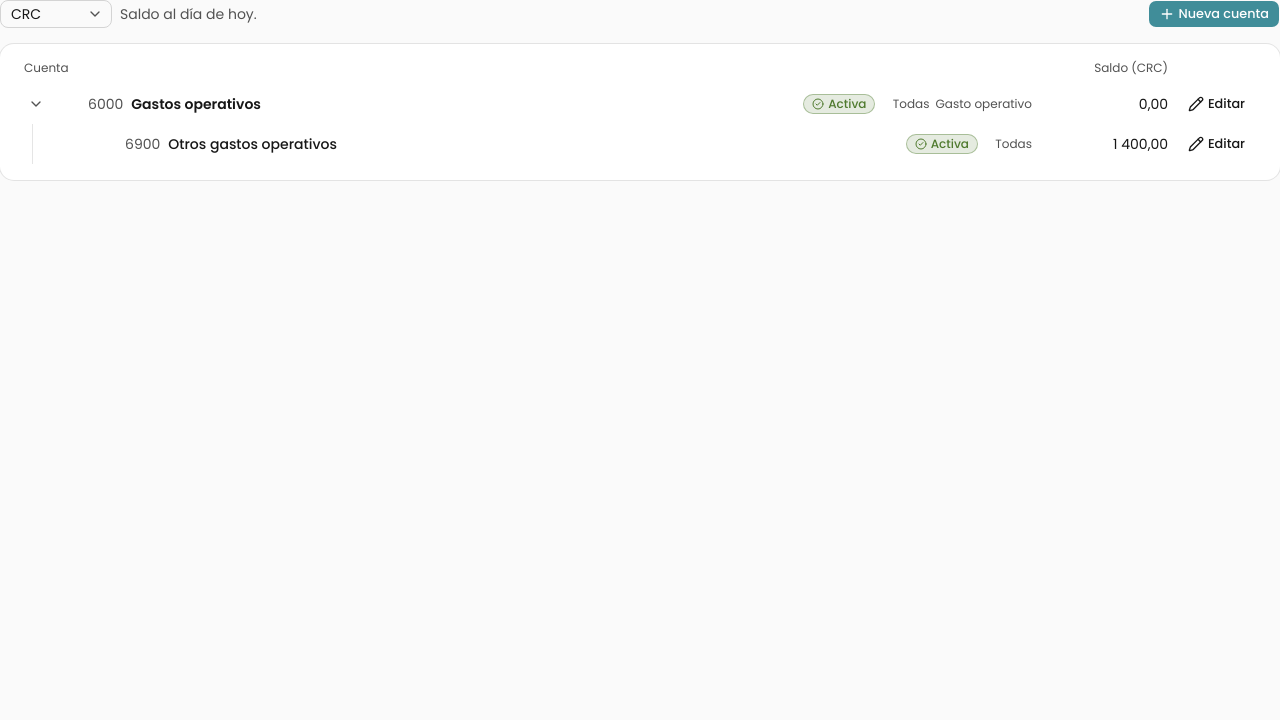
Scenario: FinanceAccountsTree — alta de una cuenta hija › rechaza un código que no son 4 dígitos antes de mandarlo
The image size is (1280, 720).
Click the button "Nueva cuenta". click: (1214, 14)
box: [1148, 0, 1279, 28]
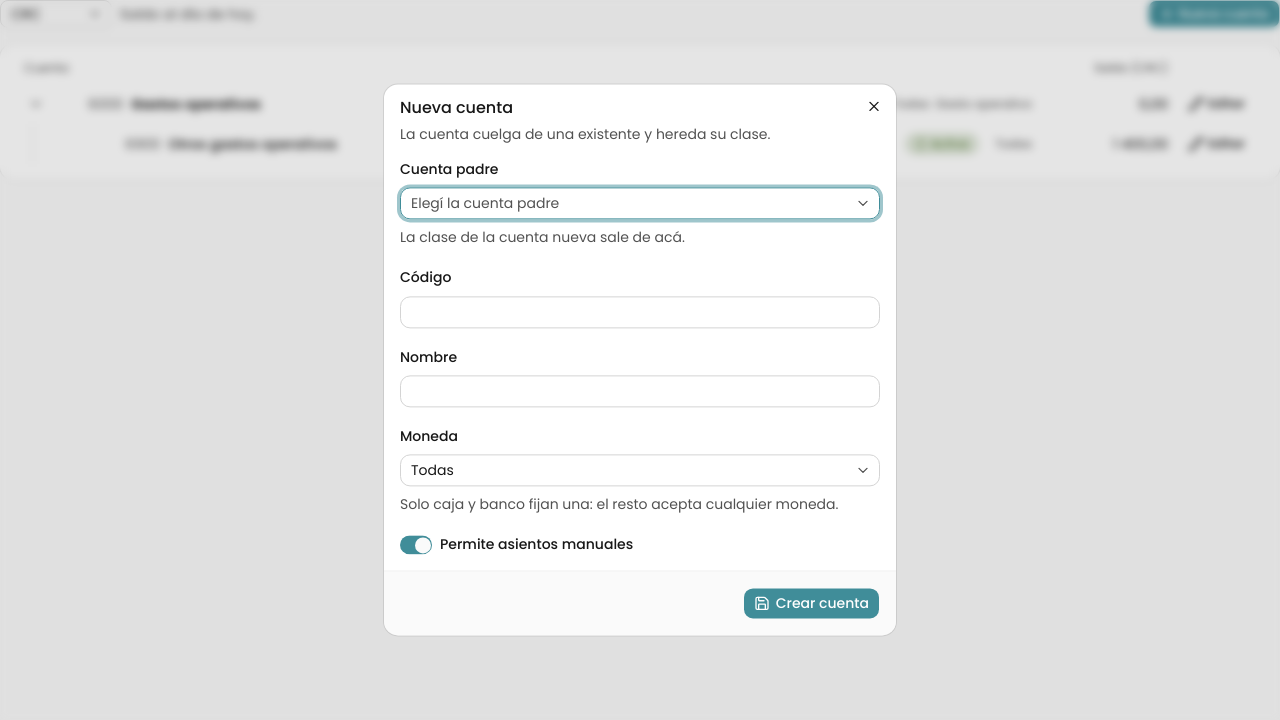
Result: the dialog is shown at [384, 84, 896, 636]
Click the dropdown labelled "Elegí la cuenta padre". click: (485, 204)
box: [400, 188, 880, 220]
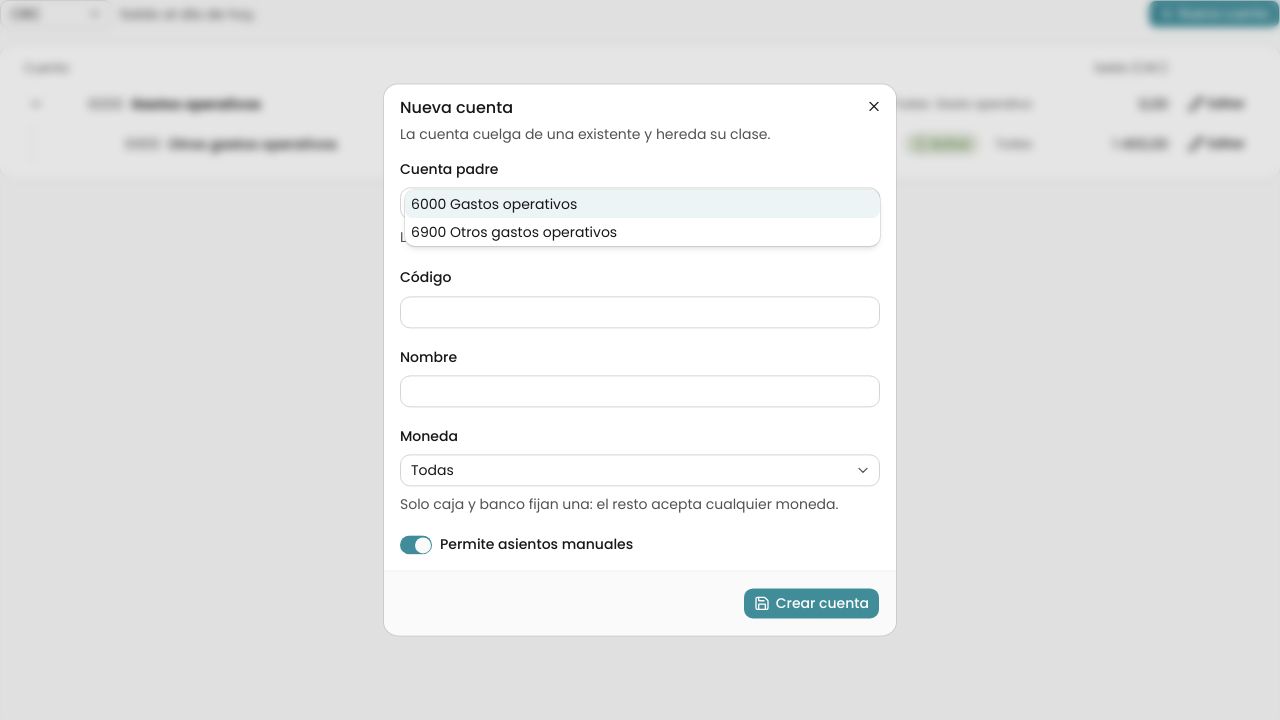
Click the option "6000 Gastos operativos". click: (494, 204)
box: [405, 190, 880, 218]
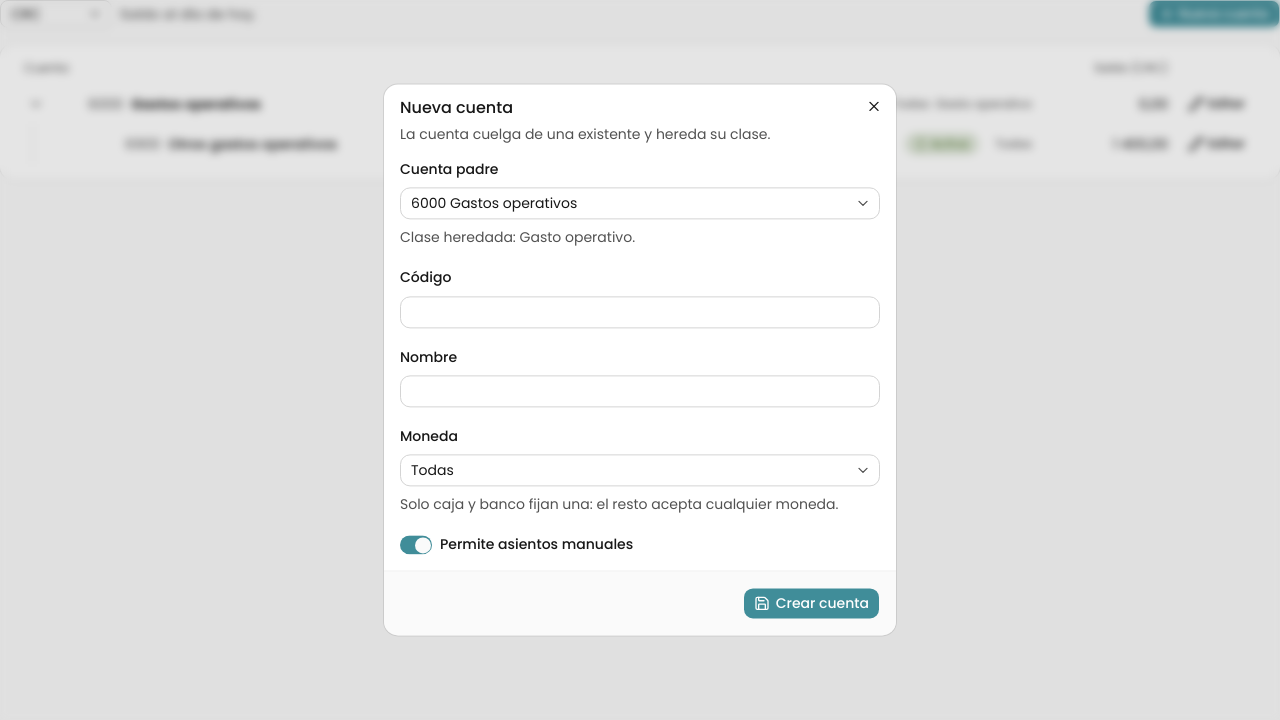
Type "69" into the field labelled "Código". click: (640, 312)
box: [400, 296, 880, 328]
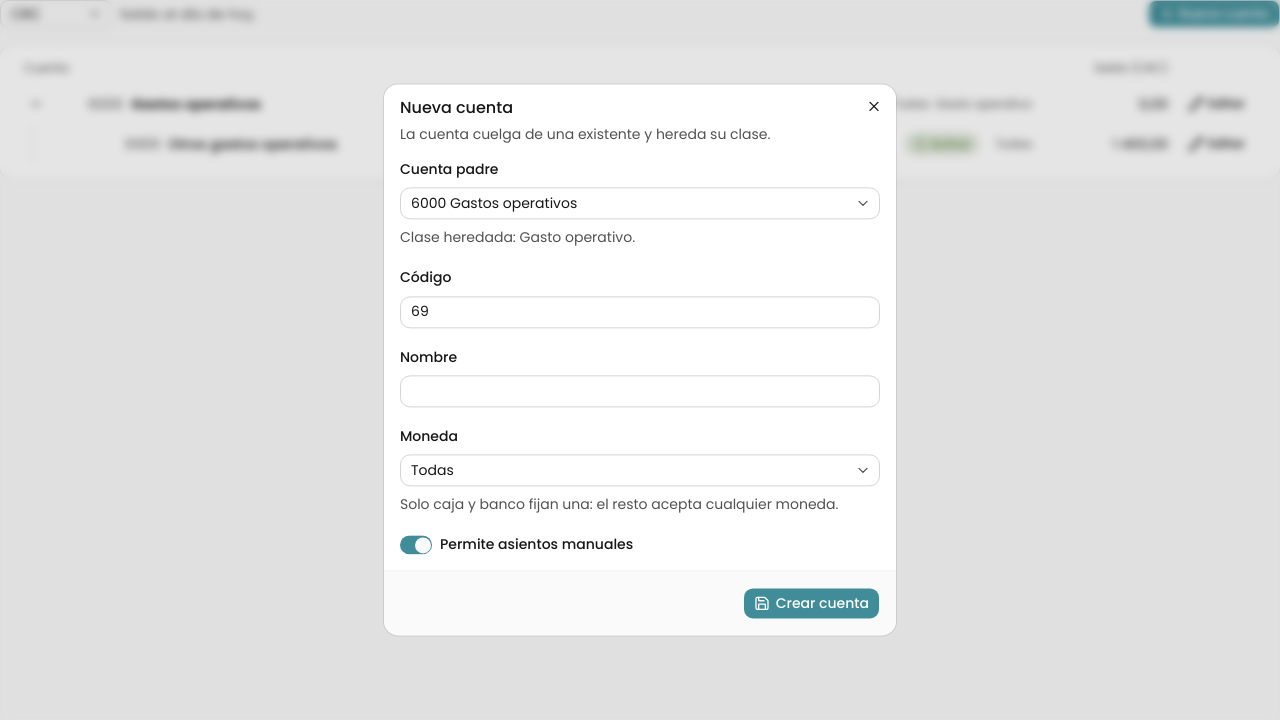
Type "Legales" into the field labelled "Nombre". click: (640, 391)
box: [400, 375, 880, 407]
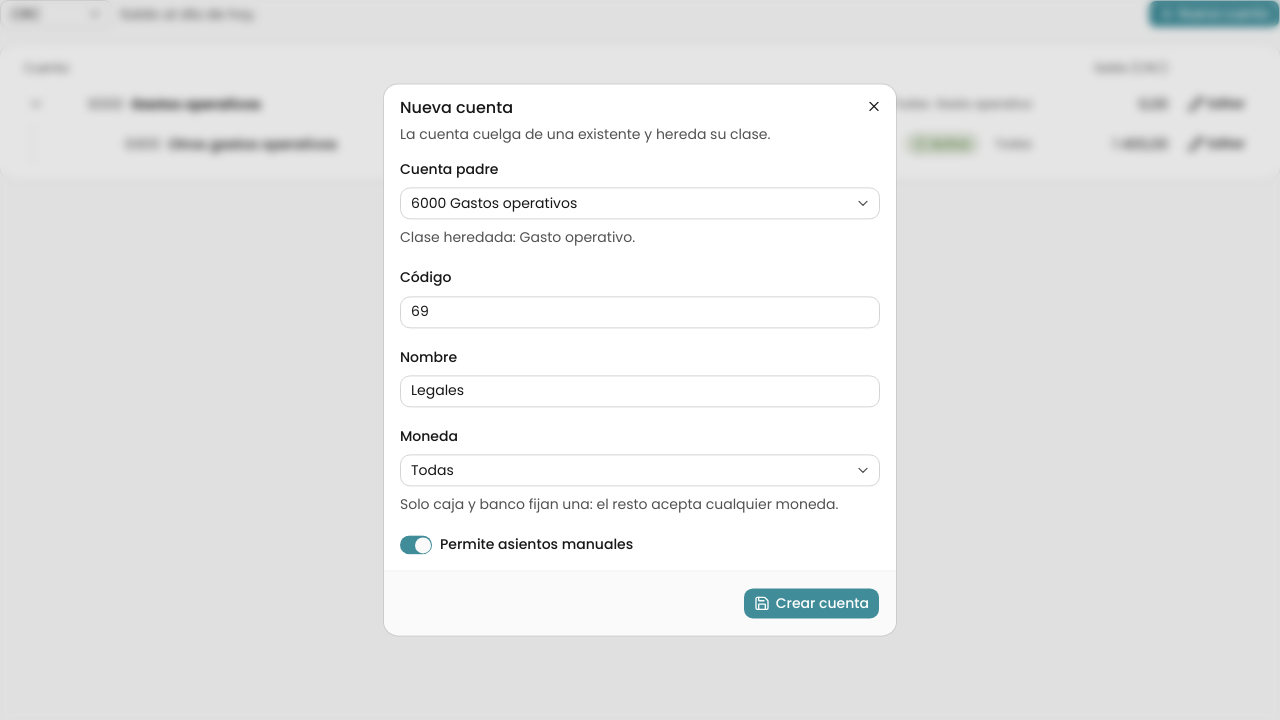
Click the button "Crear cuenta". click: (811, 604)
box: [743, 588, 880, 620]
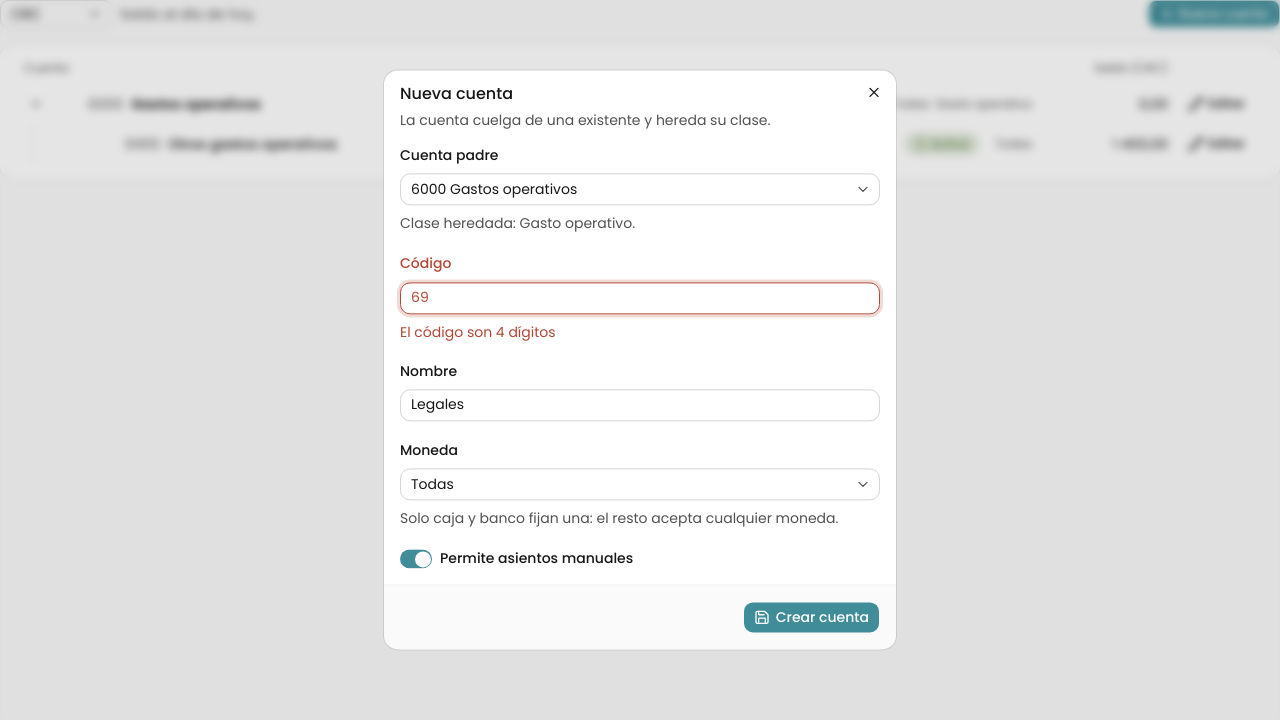
Result: the text "El código son 4 dígitos" is shown at [400, 322, 556, 342]
